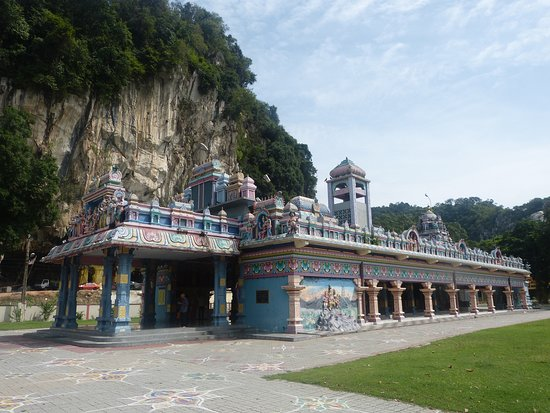Hindu Temple: (60, 149, 528, 316)
